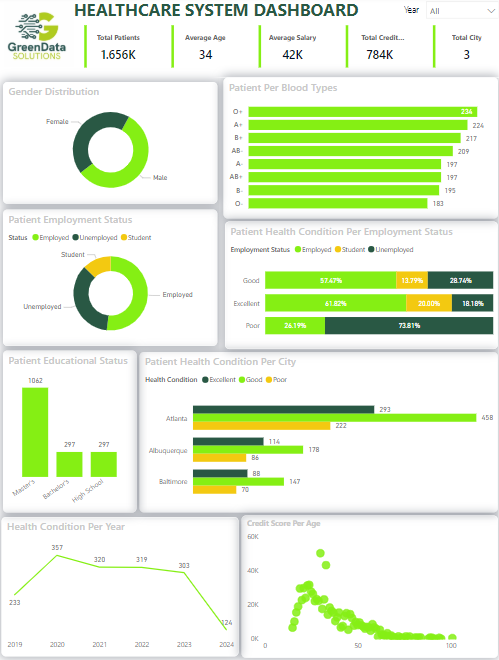

This screenshot's page, from the dashboard's own definition file:
{"tool":"powerbi","page":{"name":"Duplicate of Page 1","canvas":[816,1056],"ordinal":2},"visuals":[{"type":"clusteredBarChart","title":"Patient Health Condition Per City","fields":{"Category":["Power Query.City"],"Series":["Power Query.Health Condition"],"Y":["CountNonNull(Power Query.Health Condition)"]},"box":[225.6,565.2,567.6,254.1],"z":0},{"type":"clusteredBarChart","title":"Patient Per Blood Types","fields":{"Category":["Power Query.Blood Type"],"Y":["CountNonNull(Power Query.ID)"]},"box":[358.6,130.6,434.6,223.2],"z":1000},{"type":"clusteredColumnChart","title":"Patient Educational Status","fields":{"Y":["CountNonNull(Power Query.ID)"],"Category":["Power Query.Education"]},"box":[9.5,562.8,211.4,256.5],"z":2000},{"type":"donutChart","title":"Patient Employment Status","fields":{"Category":["Power Query.Employment Status"],"Y":["CountNonNull(Power Query.Employment Status)"]},"box":[9.5,339.6,339.6,216.1],"z":3000},{"type":"treemap","fields":{"Values":["Sum(Power Query.Age)"],"Group":["Power Query.Health Condition"]},"box":[844.7,376.1,434.6,228.7],"z":4000},{"type":"scatterChart","title":"Credit Score Per Age","fields":{"X":["Power Query.Age"],"Y":["Sum(Power Query.Credit Score)"]},"box":[387.1,824.1,406.1,225.6],"z":5000},{"type":"lineStackedColumnComboChart","fields":{"Y":["Avg(Power Query.Age)"],"Category":["Power Query.Health Condition"]},"box":[859.8,417.6,313.7,300.5],"z":6000},{"type":"hundredPercentStackedBarChart","title":"Patient Health Condition Per Employment Status","fields":{"Y":["CountNonNull(Power Query.ID)"],"Category":["Power Query.Health Condition"],"Series":["Power Query.Employment Status"]},"box":[361,358.6,432.2,201.9],"z":7000},{"type":"lineChart","title":"Health Condition Per Year","fields":{"Category":["Power Query.Date of Admission.Variation.Date Hierarchy.Year","Power Query.Date of Admission.Variation.Date Hierarchy.Quarter","Power Query.Date of Admission.Variation.Date Hierarchy.Month","Power Query.Date of Admission.Variation.Date Hierarchy.Day"],"Y":["CountNonNull(Power Query.Health Condition)"]},"box":[7.1,826.5,375.2,220.9],"z":8000},{"type":"cardVisual","fields":{"Data":["CountNonNull(Power Query.ID)","Power Query.Average Age","Power Query.Average Salary","Sum(Power Query.Credit Score)","Count(Power Query.City)"]},"box":[121.1,30.9,695.8,99.7],"z":9000},{"type":"donutChart","title":"Gender Distribution","fields":{"Category":["Power Query.Gender"],"Y":["CountNonNull(Power Query.Gender)"]},"box":[9.5,137.7,339.6,192.4],"z":10000},{"type":"image","box":[2.4,7.1,128.2,111.6],"z":11000},{"type":"textbox","box":[116.4,0,610.3,52.2],"z":12000},{"type":"slicer","fields":{"Values":["Power Query.Date of Admission.Variation.Date Hierarchy.Year","Power Query.Date of Admission.Variation.Date Hierarchy.Quarter","Power Query.Date of Admission.Variation.Date Hierarchy.Month","Power Query.Date of Admission.Variation.Date Hierarchy.Day"]},"box":[669.7,0,135.4,52.2],"z":13000},{"type":"textbox","box":[638.8,7.1,61.7,38],"z":14000}]}

Visuals, with their boxes in screenshot pixels (x1, y1, x2, y2), scaled from the page's 816x1056 canvas onto the 499x660 screenshot:
"Patient Health Condition Per City" clusteredBarChart: BBox(138, 353, 485, 512)
"Patient Per Blood Types" clusteredBarChart: BBox(219, 82, 485, 221)
"Patient Educational Status" clusteredColumnChart: BBox(6, 352, 135, 512)
"Patient Employment Status" donutChart: BBox(6, 212, 213, 347)
"Credit Score Per Age" scatterChart: BBox(237, 515, 485, 656)
"Patient Health Condition Per Employment Status" hundredPercentStackedBarChart: BBox(221, 224, 485, 350)
"Health Condition Per Year" lineChart: BBox(4, 517, 234, 655)
cardVisual - CountNonNull(Power Query.ID) x Power Query.Average Age: BBox(74, 19, 498, 82)
"Gender Distribution" donutChart: BBox(6, 86, 213, 206)
image: BBox(1, 4, 80, 74)
textbox: BBox(71, 0, 444, 33)
slicer - Power Query.Date of Admission.Variation.Date Hierarchy.Year x Power Query.Date of Admission.Variation.Date Hierarchy.Quarter: BBox(410, 0, 492, 33)
textbox: BBox(391, 4, 428, 28)
